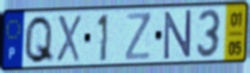1: (96, 12, 110, 63)
3: (194, 8, 223, 60)
N: (163, 8, 192, 62)
Q: (22, 14, 55, 66)
X: (55, 13, 83, 64)
Z: (124, 11, 152, 63)
